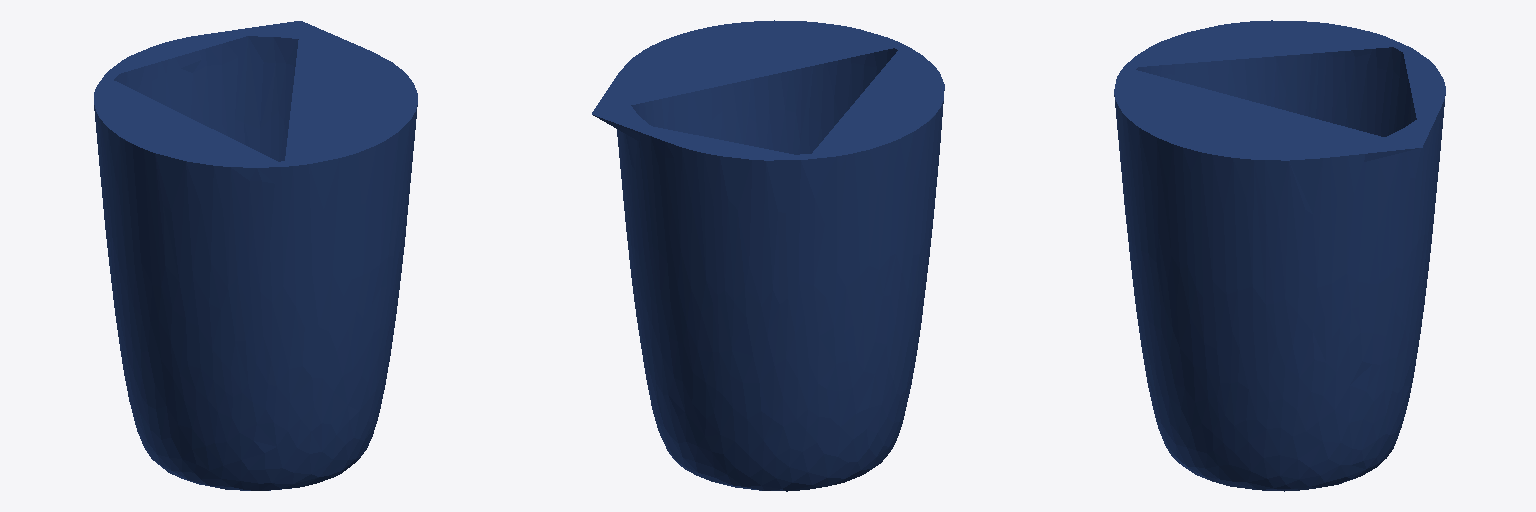
URDF robot description (design):
<?xml version="1.0"?>
<robot name="design">
  <material name="obj_color">
      <color rgba="0.2 0.3 0.5 1.0"/>
  </material>
  <link name="base">
    <visual>
      <origin xyz="0.0 0.0 0.0"/>
      <geometry>
        <mesh filename="cup.obj" scale="1 1 1"/>
      </geometry>
      <material name="obj_color"/>
    </visual>
    <collision>
      <origin xyz="0.0 0.0 0.0"/>
      <geometry>
        <mesh filename="cup.obj" scale="1 1 1"/>
      </geometry>
    </collision>
  </link>
</robot>

--- Render facts (derived) ---
The picture shows the robot from 3 angles, left to right: view 1: azimuth 30°, elevation 25°; view 2: azimuth 150°, elevation 25°; view 3: azimuth 270°, elevation 25°; orthographic projection.
Model design with 1 links and 0 joints (none), rooted at base, posed every joint at zero.
Links seen in each view (by area): view 1: base; view 2: base; view 3: base.
Link boxes in pixels (x1,y1,x2,y2): base: (94, 21, 417, 490); base: (592, 20, 944, 491); base: (1114, 20, 1445, 491).
Bounding box of the posed robot: 0.0846 × 0.0847 × 0.1 m (x, y, z).
Meshes: 1 distinct files referenced, 1 mesh visuals loaded (1 OBJ).
